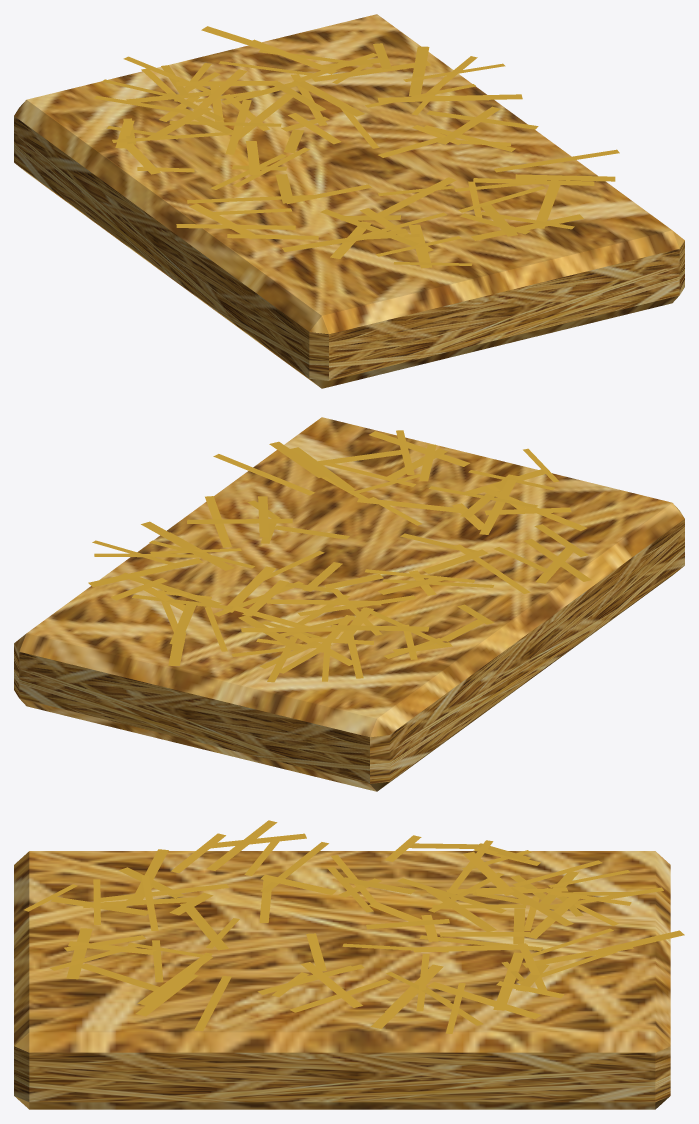
File: BarnCozy_Fill2_1.fbx
3 views of the same model, one above another, from view 1: azimuth 30°, elevation 25°; view 2: azimuth 150°, elevation 25°; view 3: azimuth 270°, elevation 25° (orthographic). The views are drawn at different scales.
Visible parts, largest first — view 1: BarnCozy_Fill2_1; view 2: BarnCozy_Fill2_1; view 3: BarnCozy_Fill2_1.
Boxes of the visible parts, x1,y1,x2,y2 form: BarnCozy_Fill2_1: (14, 14, 684, 388); BarnCozy_Fill2_1: (14, 417, 684, 791); BarnCozy_Fill2_1: (14, 820, 684, 1109).
Bounding box in the file's own units: 0.7703 × 0.1588 × 1.02.
